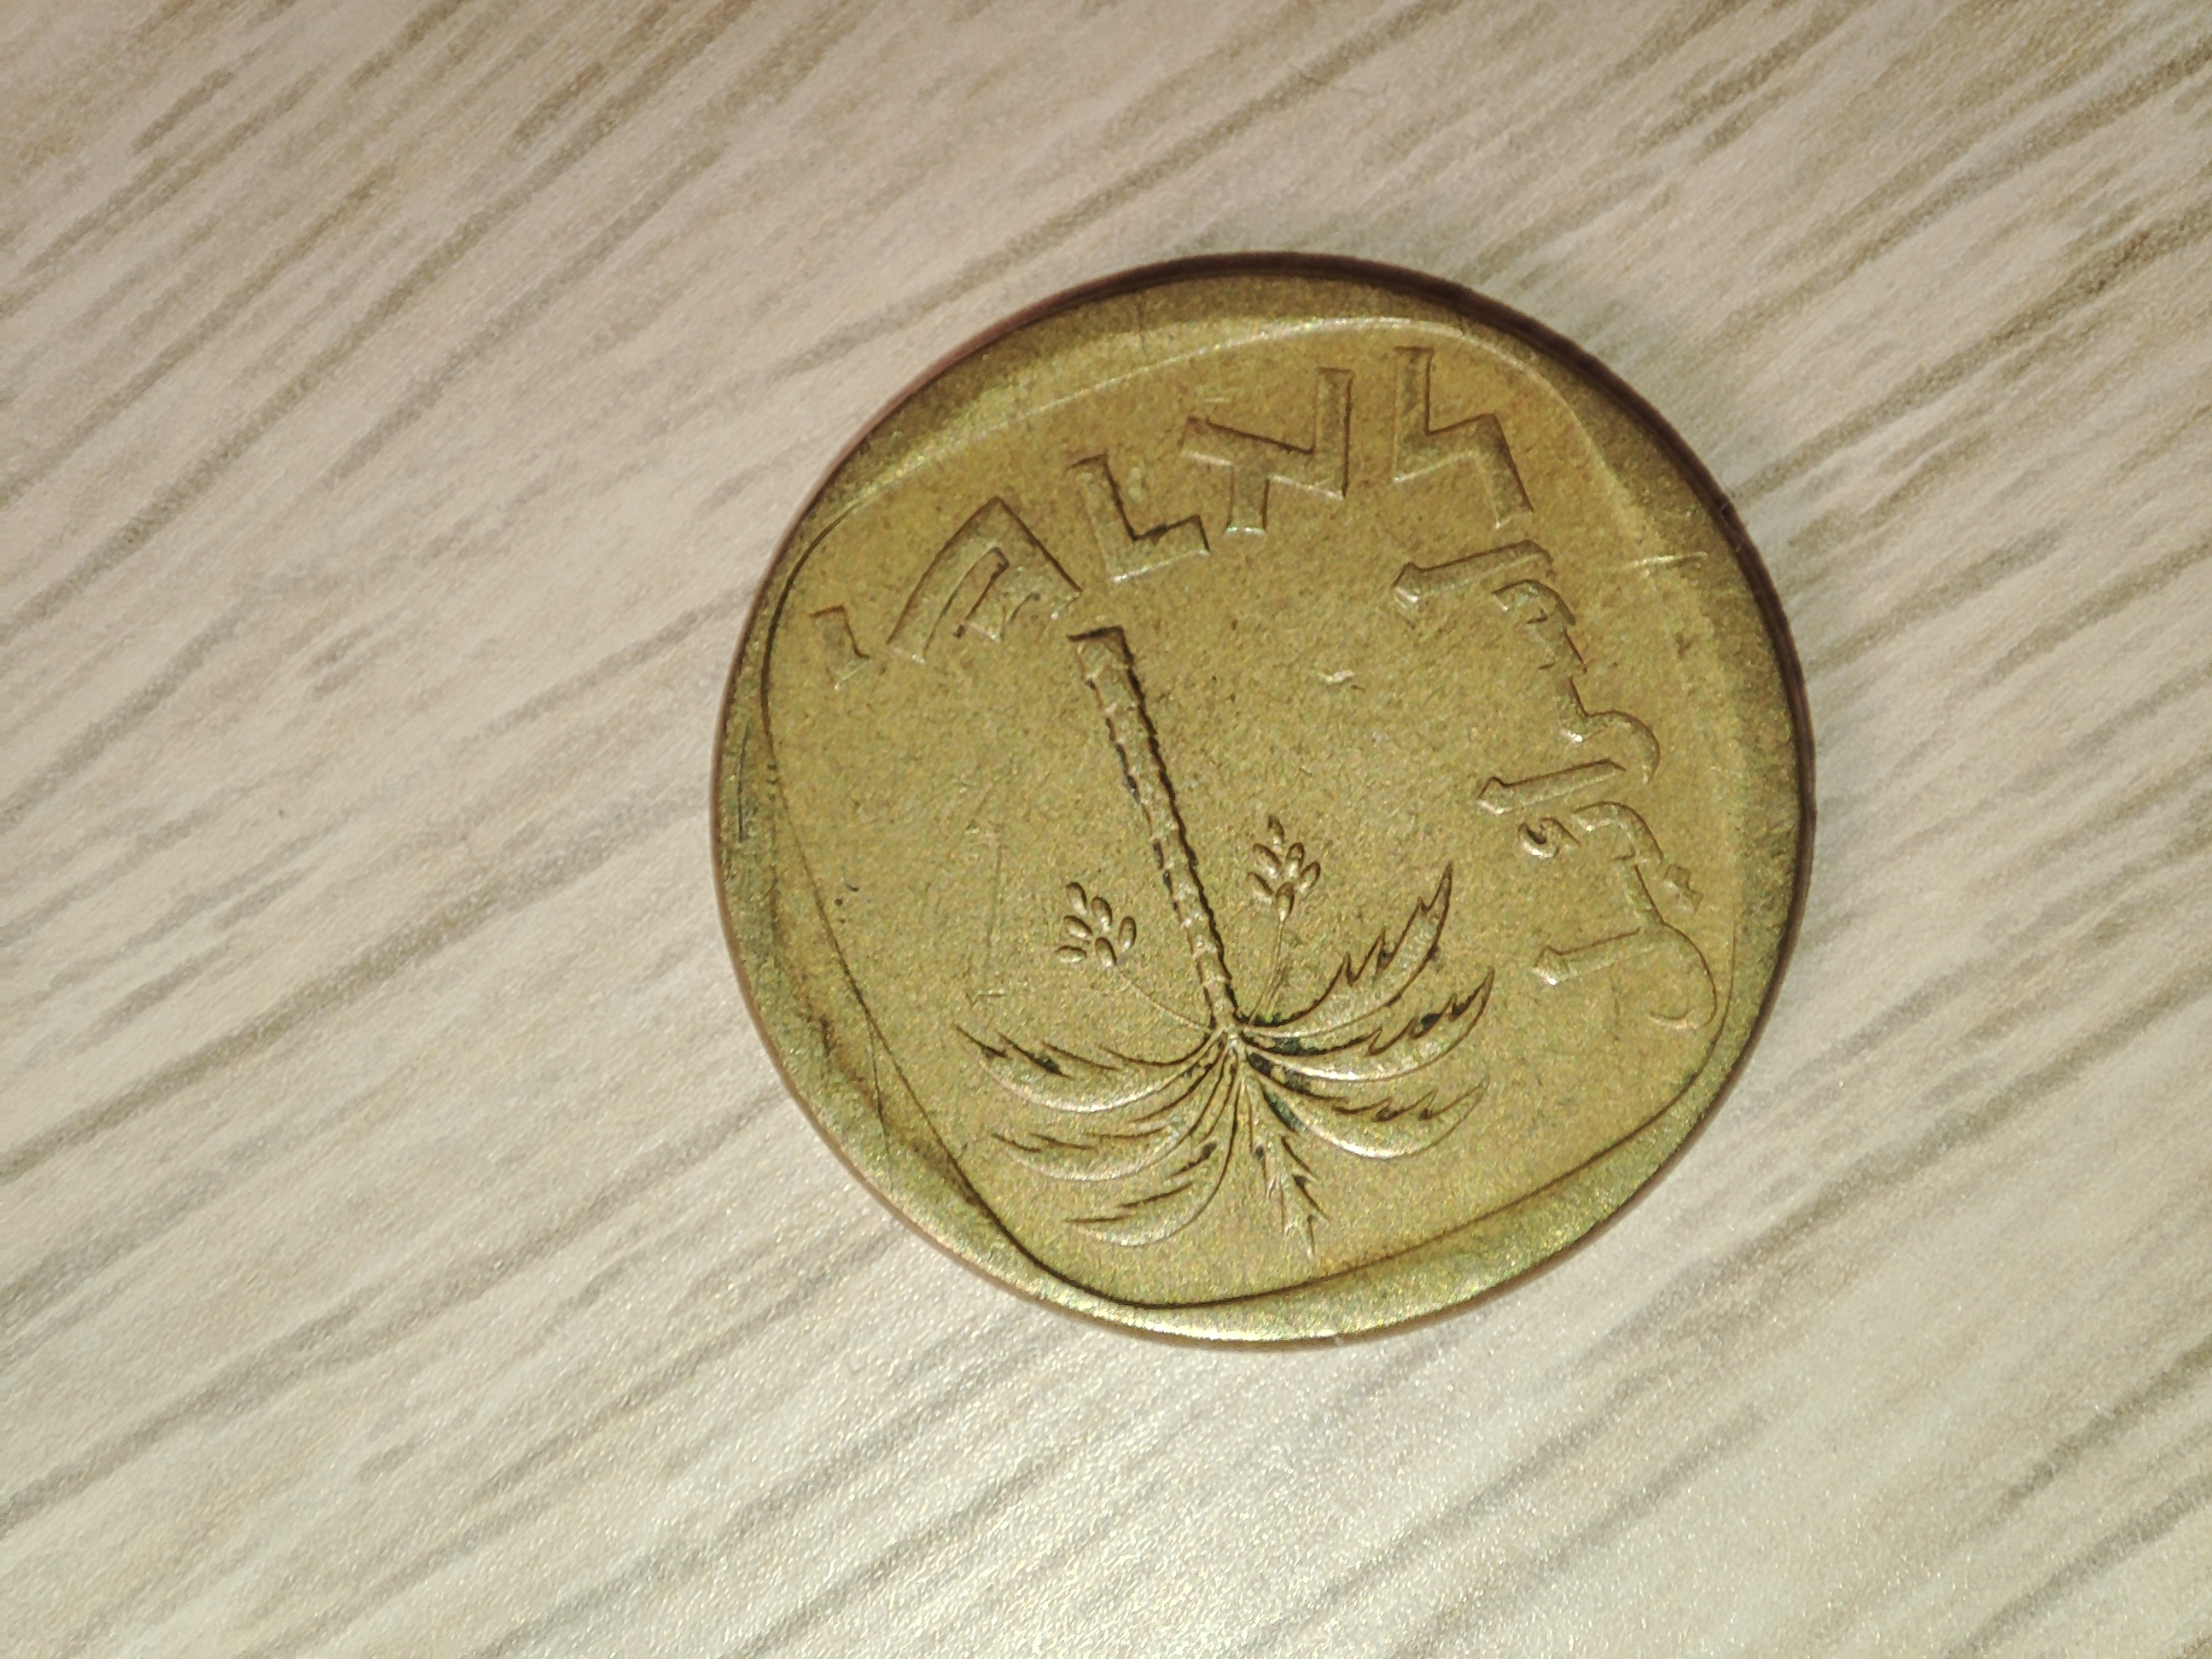10 old agora brown: (700, 251, 1827, 1358)
